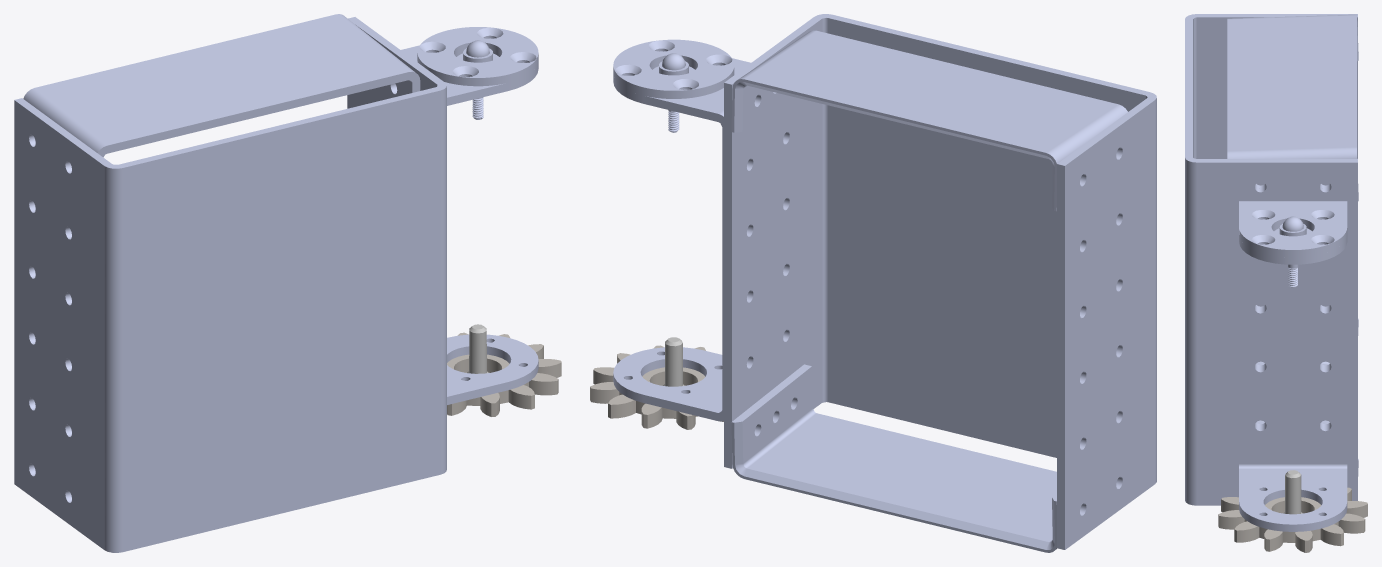
Rendered from hand_left.obj.
3 renders of one model, left to right at view 1: azimuth 30°, elevation 25°; view 2: azimuth 150°, elevation 25°; view 3: azimuth 270°, elevation 25°, orthographic. The views are drawn at different scales.
Bounding box in the file's own units: 0.0953 × 0.0728 × 0.0338.
